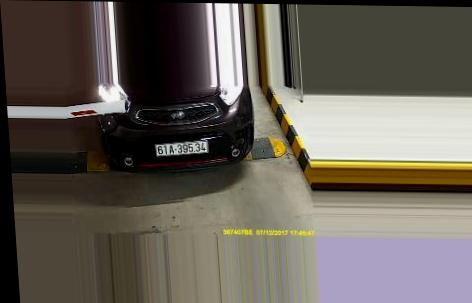License_Plate: (153, 140, 209, 156)
